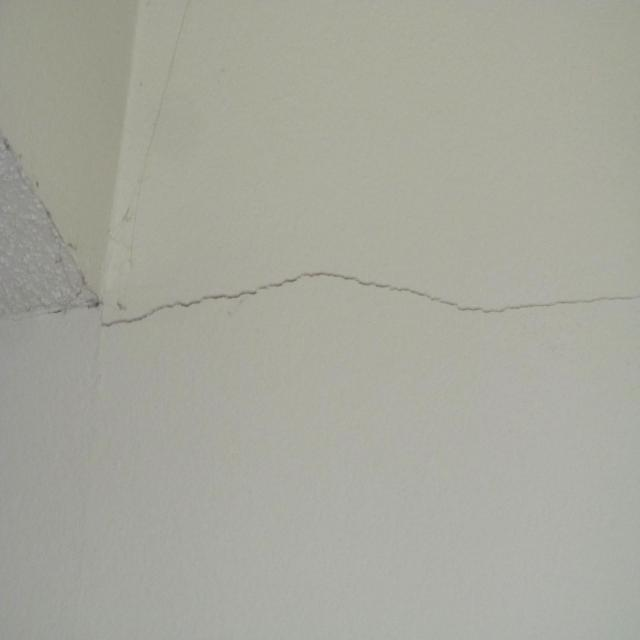Crack: (98, 268, 640, 333), (126, 0, 204, 266), (0, 133, 106, 315)
